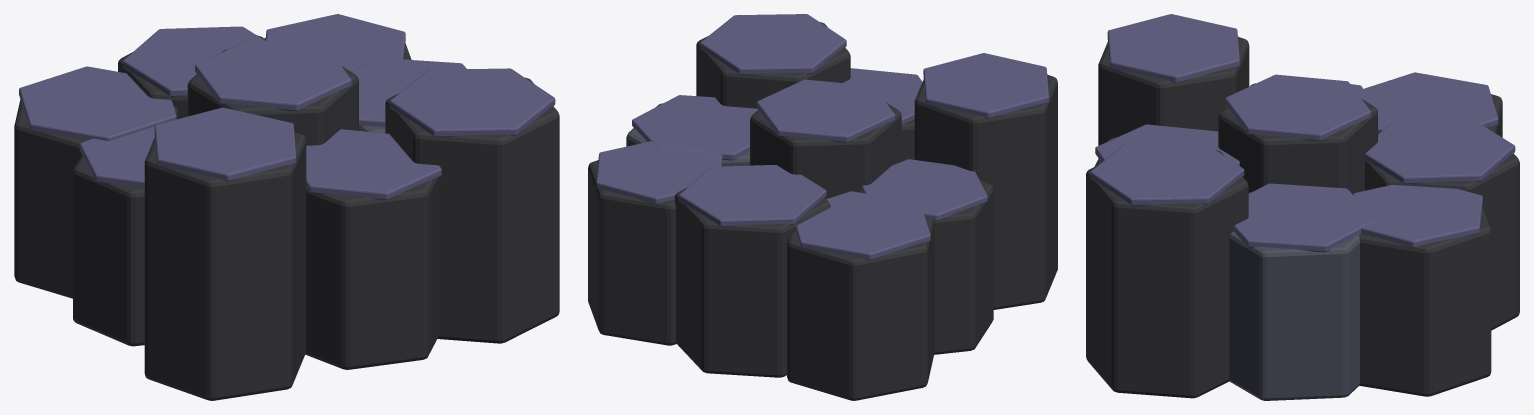
Rendered from basalt-low.glb.
3 views of the same model, side by side, from view 1: azimuth 30°, elevation 25°; view 2: azimuth 150°, elevation 25°; view 3: azimuth 270°, elevation 25° (orthographic). The views are drawn at different scales.
Parts seen in each view (by area): view 1: basalt-low; view 2: basalt-low; view 3: basalt-low.
Part boxes in pixels (<box>): basalt-low: <box>14,14,559,400</box>; basalt-low: <box>588,14,1057,400</box>; basalt-low: <box>1086,14,1519,400</box>.
Size of the model in its own units: 1.03 by 0.5648 by 1.05.
1 material, 1 textured.
